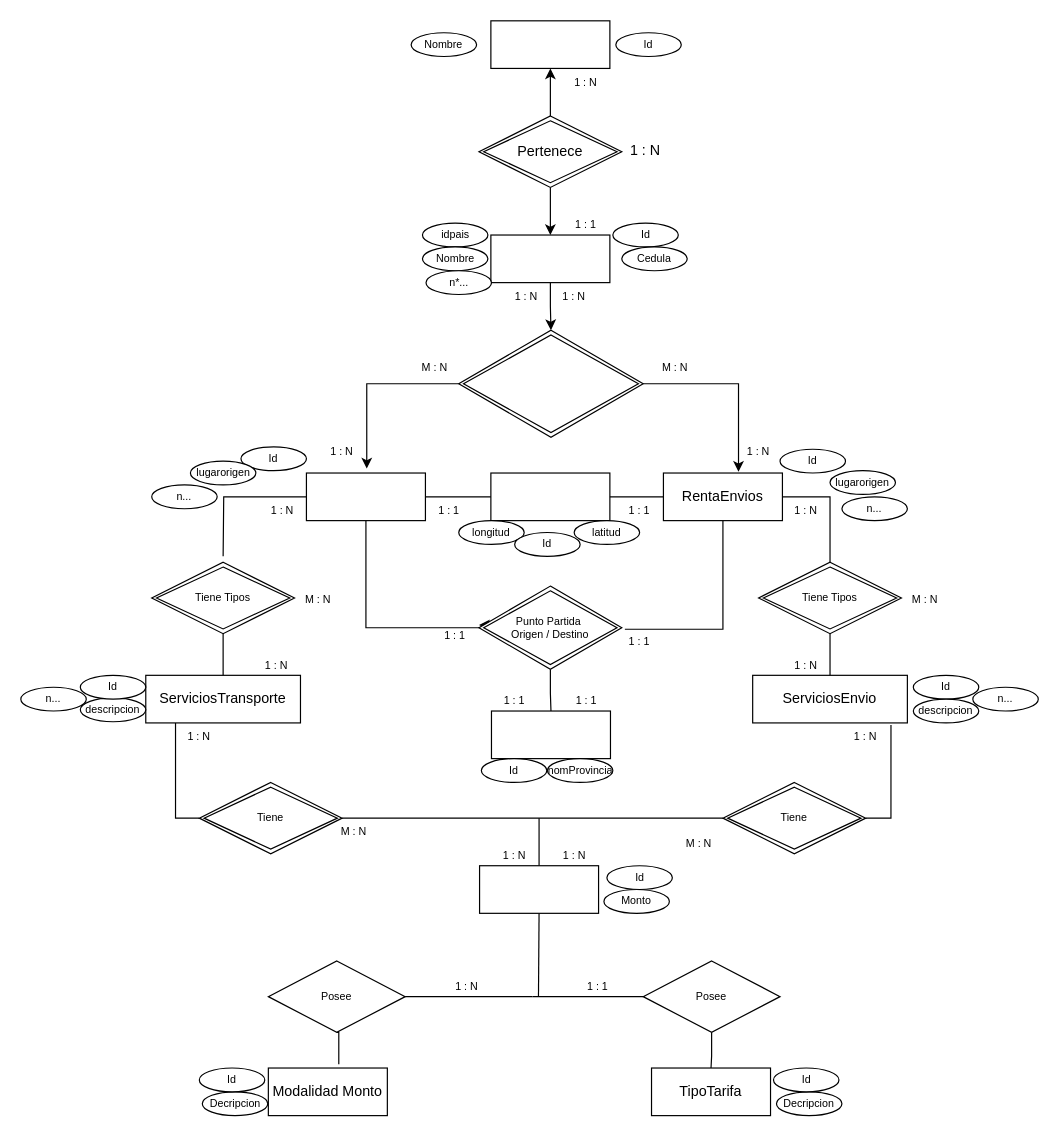
Some shapes in this 1059 by 1136 pixel diagram are drawn without their labels. Each missing label, with the centre of its shape:
"Cliente" goes at (x=550, y=258).
"País" goes at (x=550, y=44).
"Provincia" goes at (x=550, y=734).
"Renta / Adquiere Servicios" goes at (x=550, y=383).
"RentaTransporte" goes at (x=365, y=496).
"Tarifa" goes at (x=538, y=889).
"Tracking" goes at (x=550, y=496).
